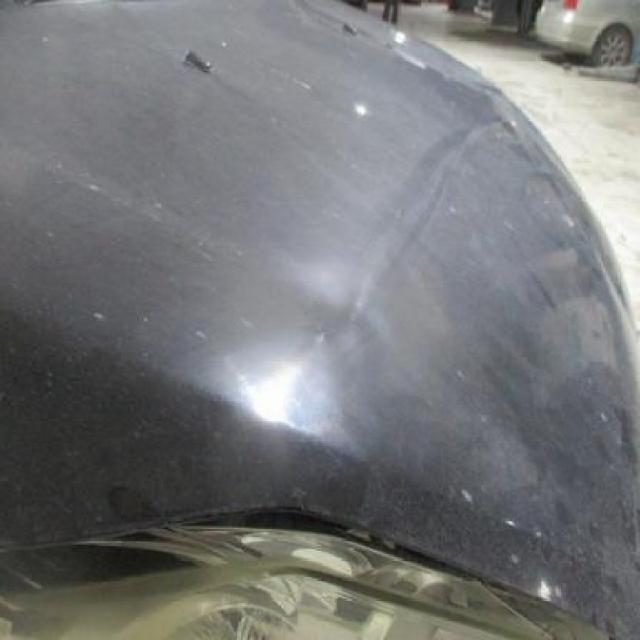car damage: (222, 284, 405, 455)
